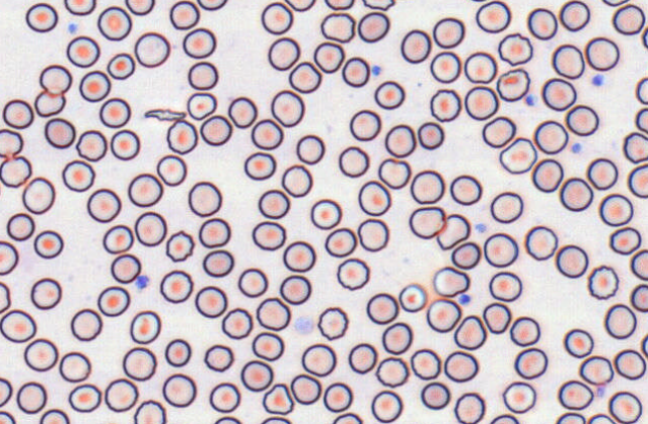PLT: (524, 92, 540, 108), (135, 275, 148, 292), (570, 142, 584, 156), (593, 385, 607, 399), (592, 72, 606, 85), (66, 22, 79, 35), (369, 64, 382, 77), (457, 294, 471, 306), (477, 223, 487, 235)
RBC: (499, 136, 537, 174), (134, 31, 170, 67), (270, 89, 304, 127), (127, 172, 163, 207), (22, 176, 55, 214), (408, 206, 446, 239), (483, 232, 518, 267), (533, 119, 568, 154), (584, 36, 619, 71), (426, 298, 461, 332), (122, 346, 156, 381), (559, 176, 593, 211), (86, 188, 121, 222), (410, 169, 444, 204), (464, 85, 498, 120), (541, 77, 576, 111), (0, 309, 36, 342), (453, 314, 486, 350), (475, 0, 511, 33), (358, 180, 391, 216), (551, 43, 584, 79), (104, 378, 138, 412), (97, 6, 131, 40), (162, 373, 196, 407), (159, 269, 193, 303), (301, 343, 336, 376), (23, 338, 58, 371), (524, 225, 557, 260), (598, 193, 633, 226), (188, 181, 221, 216), (604, 303, 636, 339), (432, 266, 469, 297), (256, 297, 290, 330), (267, 36, 300, 70), (498, 32, 532, 65), (496, 68, 530, 101), (555, 244, 588, 278), (443, 350, 478, 382), (134, 211, 166, 246), (557, 379, 593, 410), (62, 159, 95, 192), (336, 257, 369, 290), (260, 1, 293, 34), (194, 285, 227, 318), (370, 389, 402, 423), (502, 381, 536, 413), (608, 391, 642, 423), (513, 347, 547, 379), (481, 115, 515, 147), (429, 88, 461, 122), (531, 158, 563, 192), (66, 35, 100, 67), (463, 51, 497, 83), (565, 104, 599, 136), (587, 264, 618, 299), (320, 11, 355, 42), (166, 119, 197, 154), (240, 359, 273, 391), (288, 61, 321, 93), (613, 348, 646, 380), (70, 308, 102, 341), (282, 240, 315, 272), (586, 157, 618, 190), (357, 218, 389, 251), (199, 114, 232, 146), (490, 191, 523, 223), (612, 3, 645, 35), (317, 306, 348, 340), (182, 27, 216, 58), (129, 310, 160, 344), (400, 29, 431, 63), (384, 123, 415, 157), (578, 355, 613, 385), (221, 307, 253, 339), (366, 292, 398, 324), (378, 157, 410, 189), (75, 129, 107, 161), (349, 109, 381, 141), (375, 356, 408, 387), (381, 321, 412, 354), (16, 381, 47, 414), (250, 118, 283, 149), (97, 285, 130, 316), (449, 174, 482, 205), (281, 164, 312, 197), (488, 271, 522, 301), (251, 220, 285, 250), (0, 155, 31, 187), (453, 392, 485, 423), (59, 351, 91, 382), (357, 11, 389, 42), (430, 51, 461, 83), (313, 41, 344, 73), (79, 70, 110, 102), (338, 145, 369, 177), (432, 17, 464, 48), (198, 217, 230, 248), (30, 277, 61, 309), (251, 331, 284, 361), (39, 64, 72, 94), (527, 7, 557, 40), (262, 383, 293, 414), (290, 373, 321, 404), (410, 348, 441, 379), (2, 98, 33, 129), (310, 198, 341, 229), (44, 117, 75, 148), (559, 0, 590, 31), (156, 154, 186, 186), (279, 274, 311, 304), (25, 2, 57, 32), (324, 227, 356, 257), (227, 96, 257, 128), (68, 383, 101, 412), (243, 151, 276, 180), (209, 382, 240, 412), (102, 224, 133, 254), (237, 267, 268, 297), (509, 316, 540, 346), (110, 253, 141, 283), (99, 97, 130, 127), (110, 129, 140, 160), (348, 342, 377, 374), (563, 328, 593, 358), (295, 134, 325, 164), (186, 91, 217, 120), (165, 230, 194, 261), (482, 302, 511, 333), (258, 189, 289, 218), (187, 61, 218, 90), (609, 226, 641, 254), (202, 249, 234, 277), (323, 382, 352, 412), (420, 381, 450, 410), (169, 0, 199, 29), (33, 229, 63, 258), (374, 80, 404, 109), (341, 56, 369, 87), (398, 283, 427, 312), (450, 241, 480, 269), (34, 90, 65, 117), (6, 212, 34, 241), (204, 344, 233, 372), (133, 399, 166, 423), (106, 52, 135, 79), (164, 338, 191, 367), (623, 131, 647, 163), (417, 121, 444, 149), (627, 163, 647, 198), (0, 128, 23, 157), (0, 240, 18, 275), (630, 248, 647, 280), (63, 0, 96, 15), (630, 283, 647, 312), (39, 408, 69, 423), (124, 0, 154, 15), (0, 377, 12, 407), (555, 411, 585, 423), (284, 0, 315, 11), (635, 76, 647, 104), (362, 0, 395, 10), (332, 412, 362, 423), (0, 281, 10, 313), (635, 107, 647, 133), (196, 0, 227, 10), (489, 413, 519, 423), (324, 0, 354, 10), (587, 413, 615, 423), (260, 415, 291, 423), (213, 415, 241, 423), (0, 410, 15, 423), (641, 333, 648, 358), (641, 24, 648, 49), (601, 0, 629, 6), (467, 0, 487, 2)
Schistocyte: (437, 213, 471, 251), (143, 107, 185, 121)
